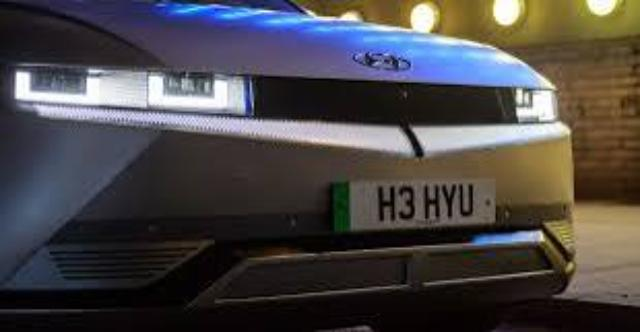License_Plate: (331, 175, 497, 234)
car: (1, 1, 597, 321)
